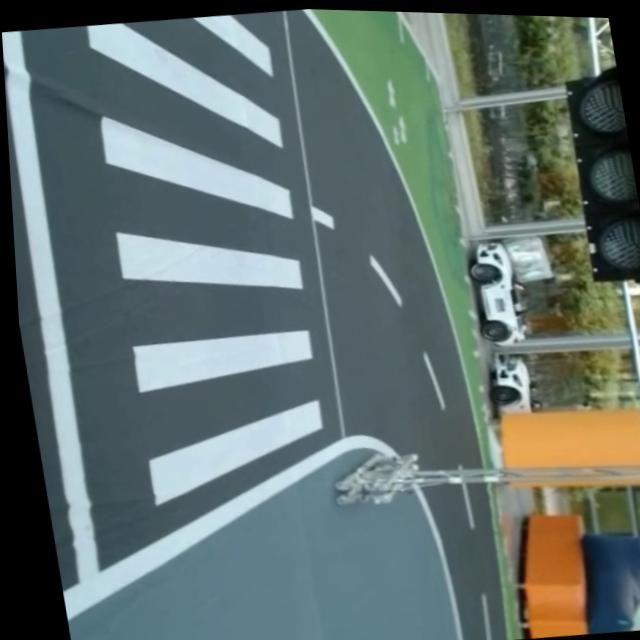traffic-light: (553, 60, 640, 291)
